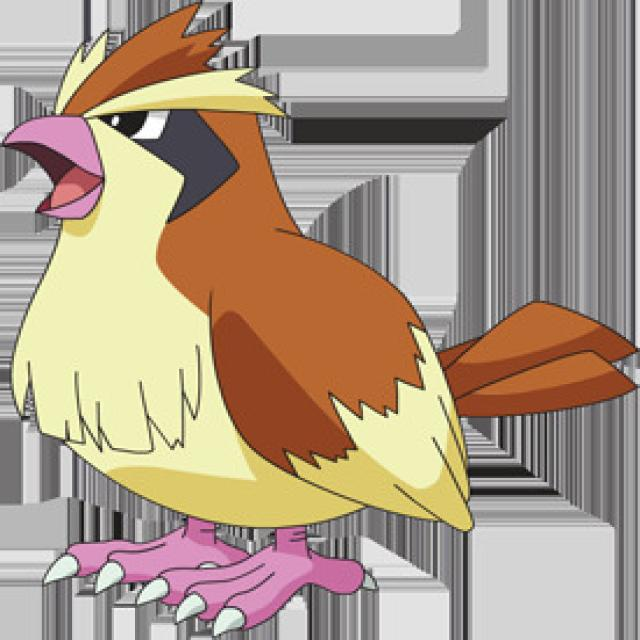Pidgey: (32, 1, 483, 604)
